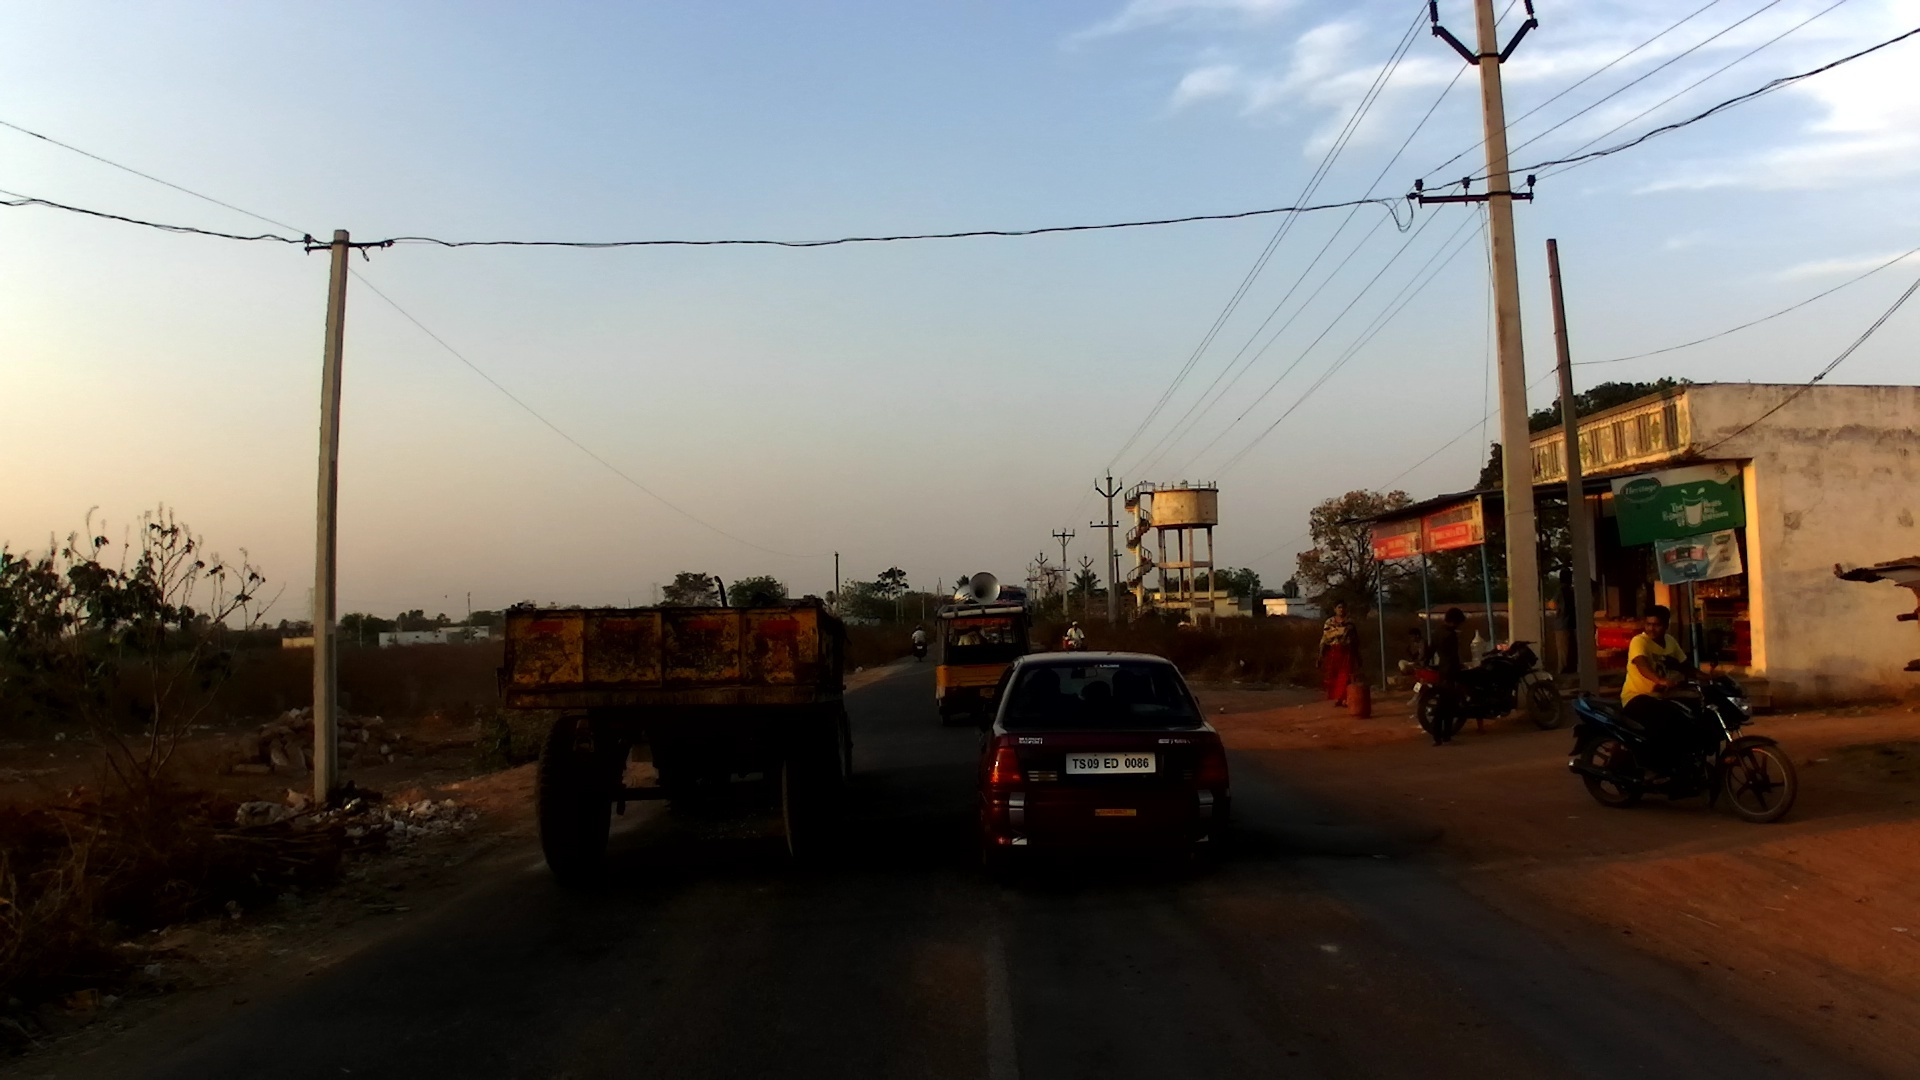car: (971, 649, 1236, 883), (929, 570, 1027, 735)
motorcycle: (1566, 649, 1798, 824), (1414, 639, 1564, 740), (908, 637, 929, 666), (1061, 633, 1089, 653)
person: (1423, 603, 1478, 750), (1316, 601, 1360, 705), (1548, 567, 1579, 678), (1400, 627, 1428, 678)
rider: (1618, 603, 1705, 779), (1064, 621, 1088, 653), (907, 626, 928, 656)
truck: (982, 586, 1035, 632)
vehicle fallback: (468, 567, 853, 879)
